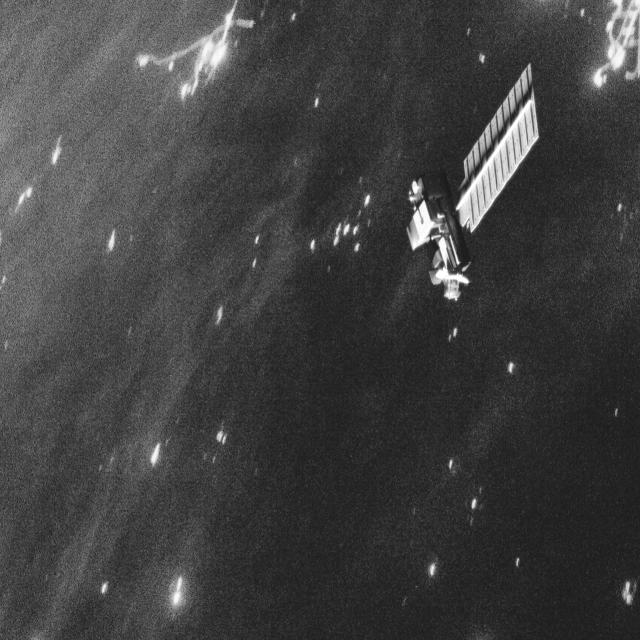satellite: (394, 57, 550, 313)
